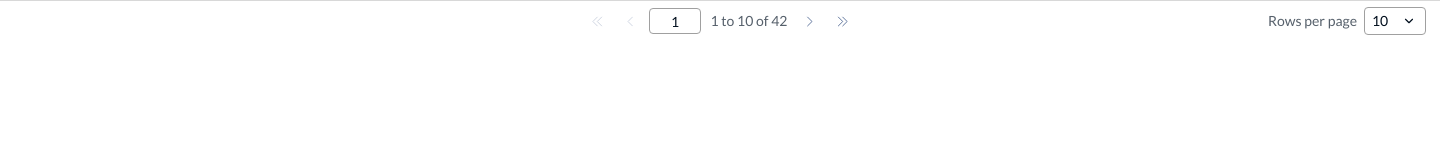
TableFooter › jumps to a page typed into the box, and refuses one that is not there
Replace the text in the field named "Page" with "4": [675, 21] box [649,8,701,34]
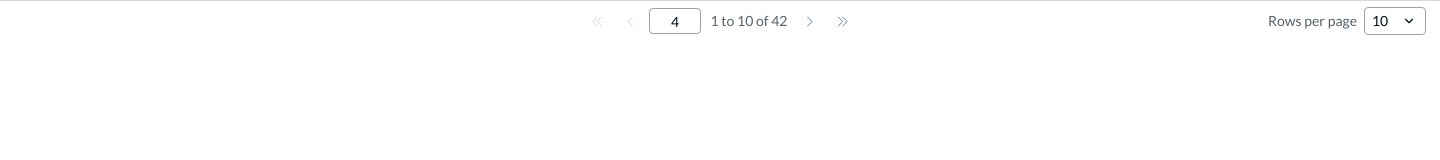
Press Enter in the field named "Page", box [649,8,701,34]
Five pages of ten in forty-two, so there is no ninth.
Replace the text in the field named "Page" with "9": [675, 21] box [649,8,701,34]
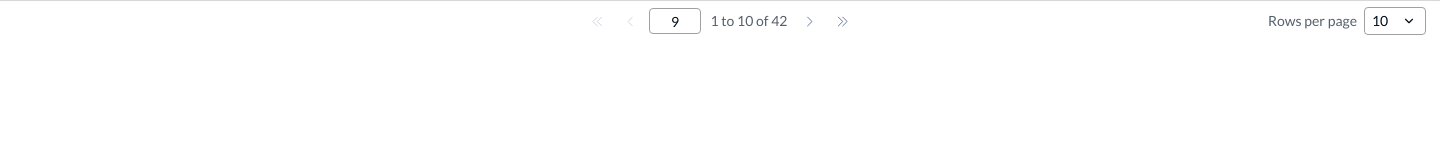
Press Enter in the field named "Page", box [649,8,701,34]
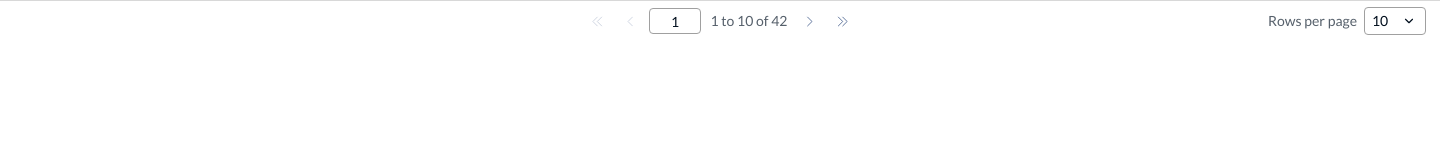
expect the field named "Page" holds "1": met, box [649,8,701,34]
